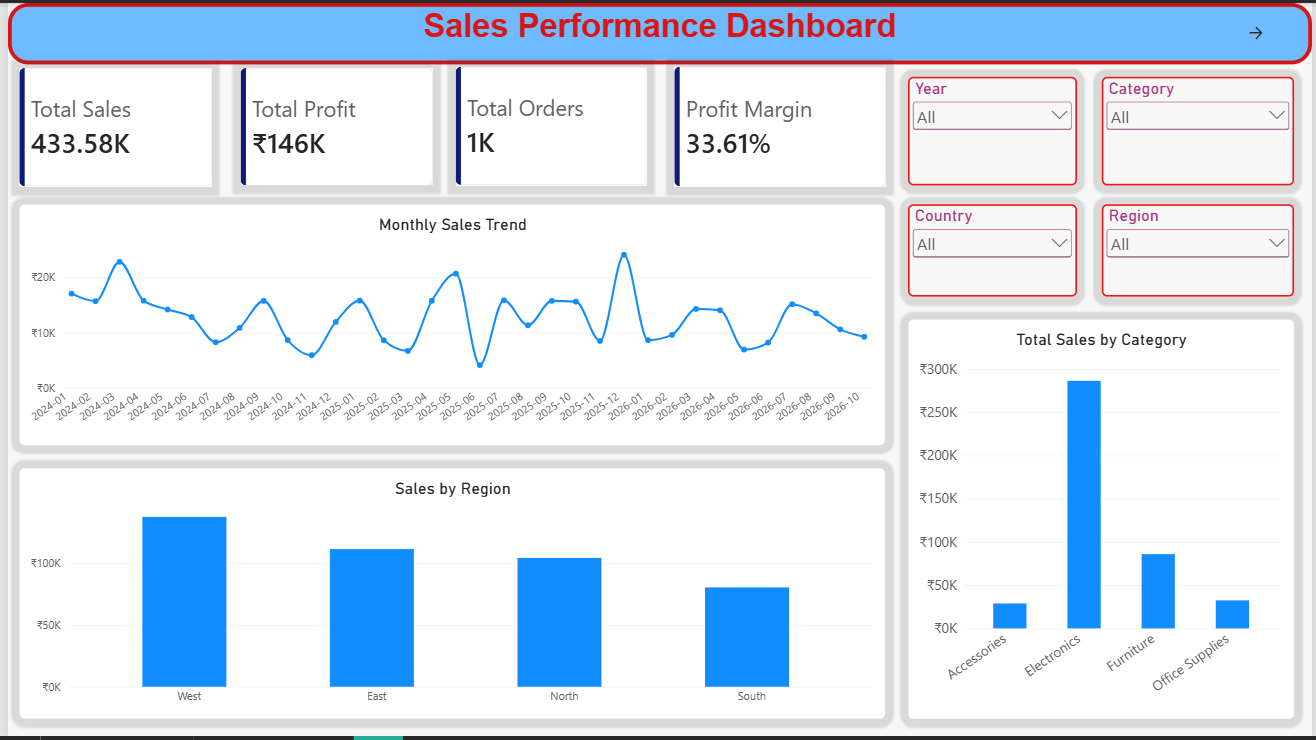

The page's visual inventory and layout, read from the dashboard file:
{"tool":"powerbi","page":{"name":"Sales Overview","canvas":[1920,1080],"ordinal":0},"visuals":[{"type":"textbox","box":[0,0,1919.6,90.2],"z":0},{"type":"cardVisual","title":"Total Sales","fields":{"Data":["SalesTable.Total Sales"]},"box":[16.6,95.7,283.4,174.8],"z":1000},{"type":"cardVisual","fields":{"Data":["SalesTable.Total Profit"]},"box":[342.3,95.7,283.4,173],"z":2000},{"type":"cardVisual","fields":{"Data":["SalesTable.Total Orders"]},"box":[658.9,93.9,281.6,174.8],"z":3000},{"type":"cardVisual","fields":{"Data":["SalesTable.Profit Margin"]},"box":[981,93.9,311,176.7],"z":4000},{"type":"lineChart","title":"Monthly Sales Trend","fields":{"Category":["CalendarTable.YearMonth"],"Y":["SalesTable.Total Sales"]},"box":[16.6,296.3,1275.5,355.2],"z":5000},{"type":"clusteredColumnChart","title":"Sales by Region","fields":{"Category":["SalesTable.Region"],"Y":["SalesTable.Total Sales"]},"box":[16.6,684.7,1275.5,369.9],"z":6000},{"type":"slicer","fields":{"Values":["CalendarTable.Year"]},"box":[1325.2,108.6,248.5,160.1],"z":7000},{"type":"slicer","fields":{"Values":["SalesTable.Region"]},"box":[1610.4,296.3,283.4,136.2],"z":8000},{"type":"slicer","fields":{"Values":["SalesTable.Country"]},"box":[1325.2,296.3,248.5,136.2],"z":9000},{"type":"slicer","fields":{"Values":["ProductsTable.Category"]},"box":[1610.4,108.6,283.4,160.1],"z":10000},{"type":"actionButton","box":[1766.9,0,139.9,88.3],"z":11000},{"type":"clusteredColumnChart","fields":{"Category":["ProductsTable.Product Hierarchy.Category","ProductsTable.Product Hierarchy.SubCategory","ProductsTable.Product Hierarchy.ProductName"],"Y":["SalesTable.Total Sales"]},"box":[1325.2,465.6,568.7,589],"z":12000}]}

Visuals, with their boxes in screenshot pixels (x1, y1, x2, y2), scaled from the page's 1920x1080 canvas onto the 1316x740 screenshot:
textbox: [x1=0, y1=0, x2=1315, y2=62]
"Total Sales" cardVisual: [x1=11, y1=66, x2=206, y2=185]
cardVisual - SalesTable.Total Profit: [x1=235, y1=66, x2=429, y2=184]
cardVisual - SalesTable.Total Orders: [x1=452, y1=64, x2=645, y2=184]
cardVisual - SalesTable.Profit Margin: [x1=672, y1=64, x2=886, y2=185]
"Monthly Sales Trend" lineChart: [x1=11, y1=203, x2=886, y2=446]
"Sales by Region" clusteredColumnChart: [x1=11, y1=469, x2=886, y2=723]
slicer - CalendarTable.Year: [x1=908, y1=74, x2=1079, y2=184]
slicer - SalesTable.Region: [x1=1104, y1=203, x2=1298, y2=296]
slicer - SalesTable.Country: [x1=908, y1=203, x2=1079, y2=296]
slicer - ProductsTable.Category: [x1=1104, y1=74, x2=1298, y2=184]
actionButton: [x1=1211, y1=0, x2=1307, y2=61]
clusteredColumnChart - ProductsTable.Product Hierarchy.Category x ProductsTable.Product Hierarchy.SubCategory: [x1=908, y1=319, x2=1298, y2=723]
